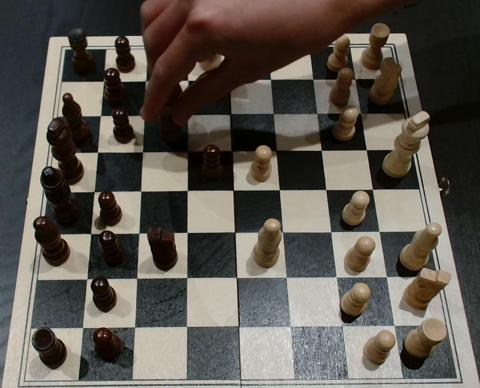xcorner: (178, 321, 193, 336), (283, 320, 298, 335), (128, 272, 143, 287), (229, 271, 244, 286), (130, 226, 145, 241), (227, 225, 242, 240), (276, 225, 291, 240), (324, 224, 339, 239), (85, 184, 100, 199), (179, 183, 194, 198), (319, 182, 334, 197), (366, 181, 381, 196), (134, 144, 149, 159), (224, 143, 239, 158), (179, 106, 194, 121), (223, 106, 238, 121), (310, 105, 325, 120), (137, 72, 152, 87), (306, 70, 321, 85), (74, 322, 88, 337), (126, 322, 141, 336), (335, 320, 350, 334), (388, 319, 402, 334), (78, 273, 93, 287), (279, 271, 294, 285), (330, 270, 344, 285), (380, 270, 395, 284), (179, 226, 193, 241), (373, 224, 387, 239), (132, 184, 147, 198), (273, 182, 287, 197), (89, 144, 103, 159), (179, 144, 194, 158), (315, 142, 329, 157), (360, 142, 375, 156), (92, 107, 106, 122), (135, 107, 150, 121), (354, 105, 369, 119), (95, 72, 109, 87), (179, 72, 194, 86), (222, 71, 236, 86), (264, 71, 279, 85), (349, 70, 363, 85), (231, 321, 245, 335), (179, 272, 193, 286), (82, 227, 96, 241), (226, 183, 240, 197), (270, 143, 284, 157), (267, 106, 281, 120)
